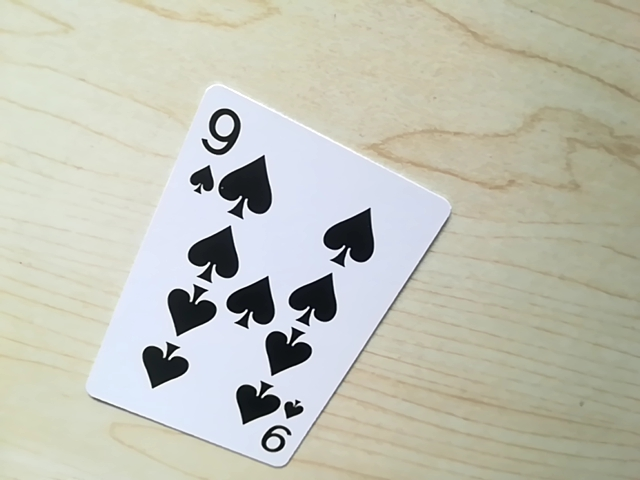ht 9: (178, 93, 253, 201), (248, 407, 306, 463)
